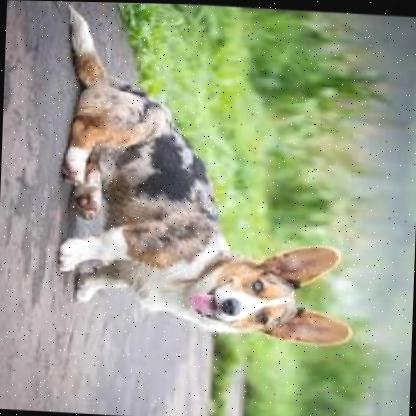dog: (55, 3, 364, 349)
